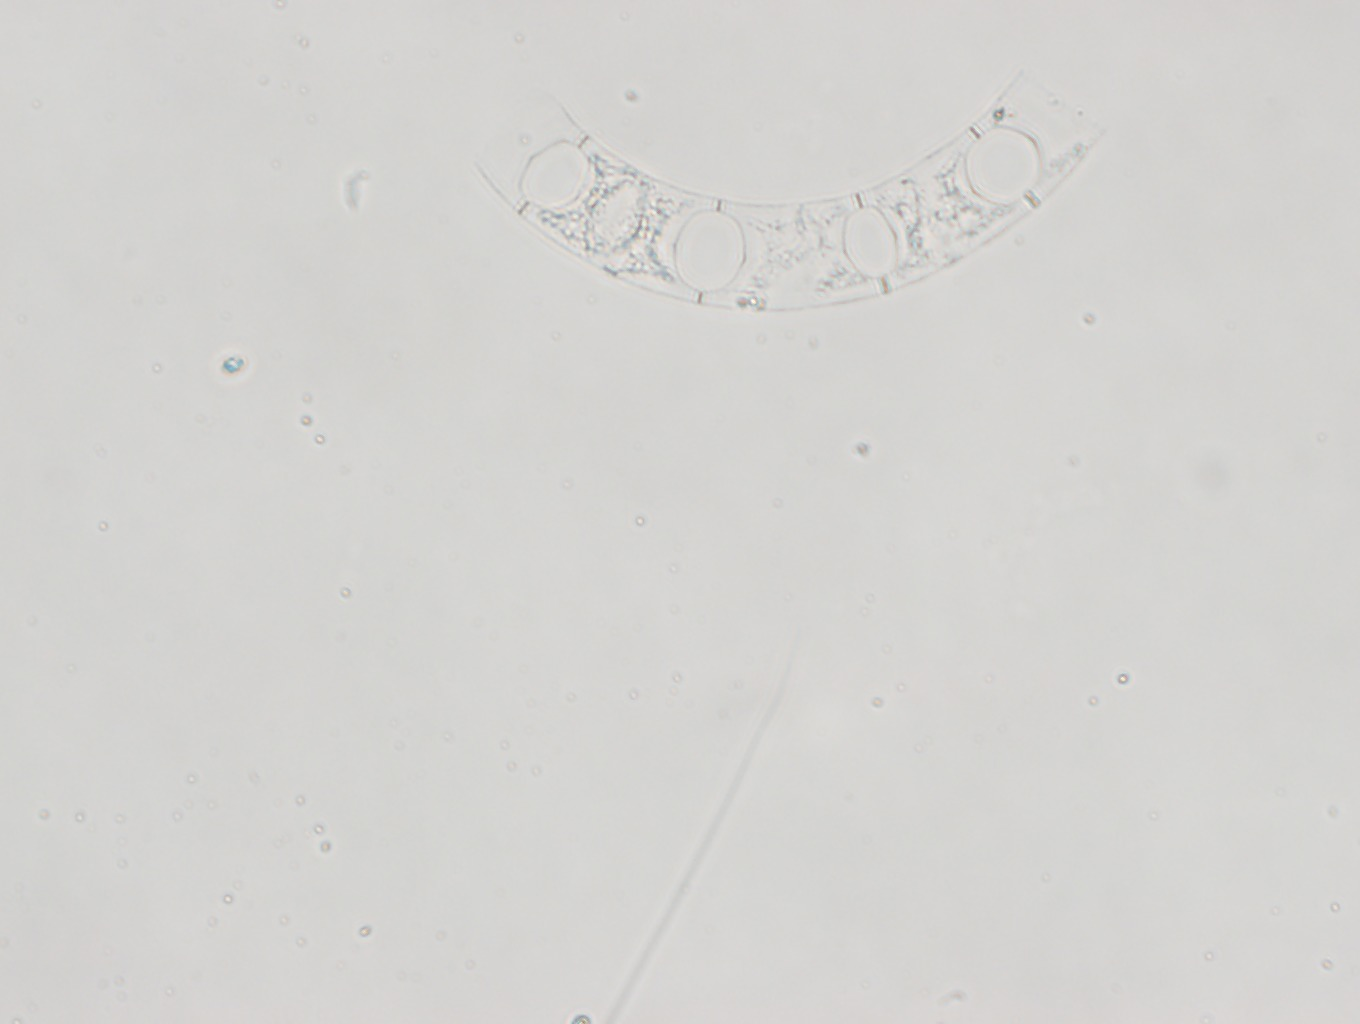eucampia: (471, 69, 1104, 316)
